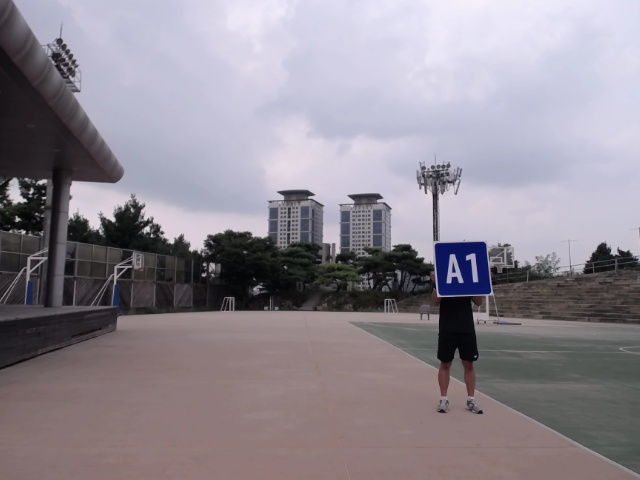delivery_a1: (434, 241, 492, 298)
